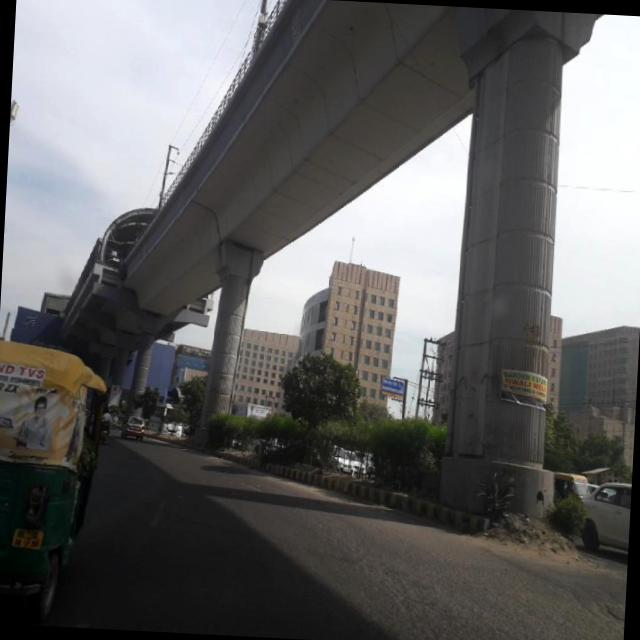crack: (226, 474, 597, 640)
